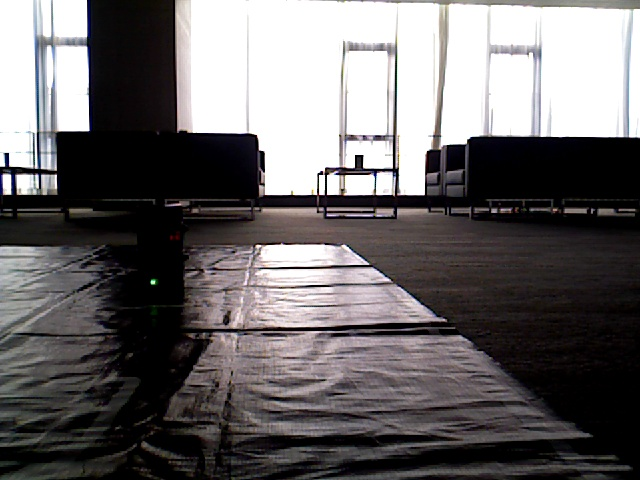green: (141, 218, 175, 308)
